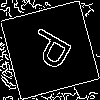P: (25, 25, 82, 77)
